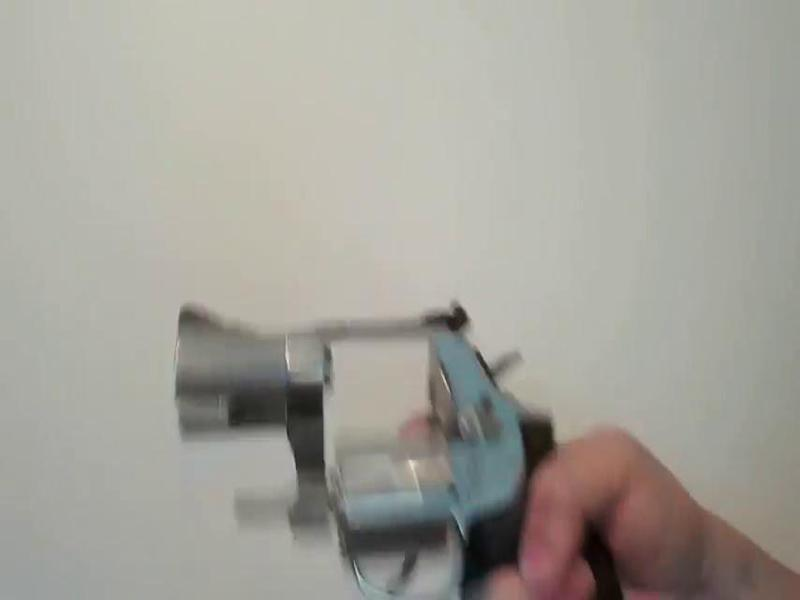Revolver: (161, 264, 631, 600)
